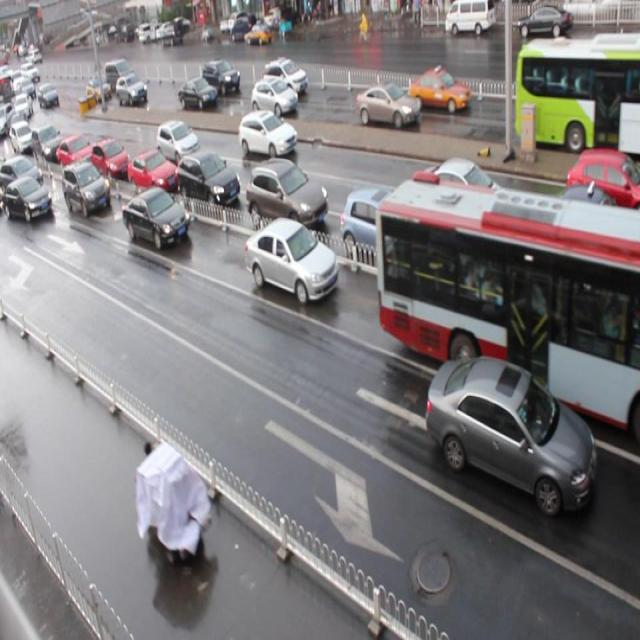car: (423, 353, 595, 517), (529, 184, 640, 273), (244, 216, 339, 307), (414, 156, 513, 235), (340, 186, 429, 270), (246, 158, 327, 233), (565, 146, 640, 224), (122, 187, 191, 249), (175, 150, 240, 204), (238, 108, 295, 162), (355, 82, 418, 130), (63, 160, 111, 219), (409, 69, 468, 115), (128, 145, 177, 193), (1, 176, 52, 222), (156, 122, 202, 166), (1, 152, 43, 198), (250, 77, 298, 116), (264, 58, 307, 96), (55, 131, 92, 175), (90, 137, 127, 176), (178, 78, 218, 112), (202, 62, 240, 96), (31, 125, 62, 164), (116, 75, 149, 108)
truck: (460, 193, 603, 324)
van: (375, 175, 640, 440), (515, 39, 640, 157)
